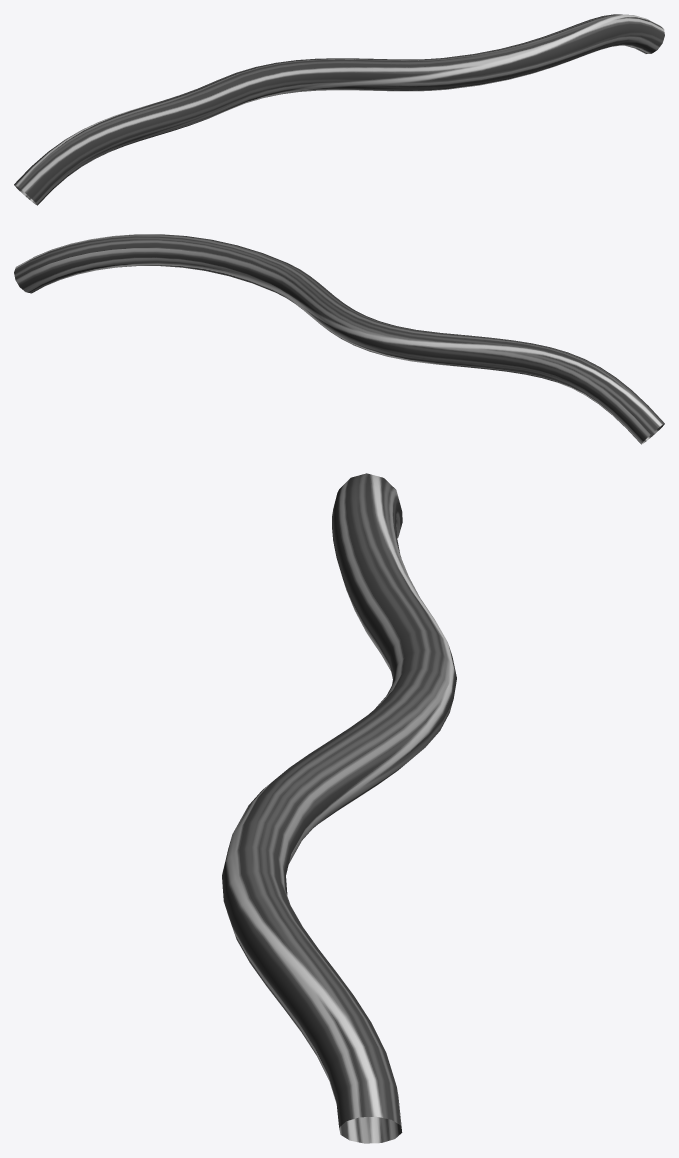
Rendered from ChurnerPeekingPipe.fbx.
3 renders of one model, top to bottom at view 1: azimuth 30°, elevation 25°; view 2: azimuth 150°, elevation 25°; view 3: azimuth 270°, elevation 25°, orthographic. The views are drawn at different scales.
Visible parts, largest first — view 1: ChurnerPeekingPipe_LOD0; view 2: ChurnerPeekingPipe_LOD0; view 3: ChurnerPeekingPipe_LOD0.
Part boxes in pixels (x1,y1,x2,y2): ChurnerPeekingPipe_LOD0: [14, 14, 664, 205]; ChurnerPeekingPipe_LOD0: [14, 234, 664, 444]; ChurnerPeekingPipe_LOD0: [222, 473, 456, 1143].
Size of what is drawn, in the model's own units: 1091 by 113 by 172.
